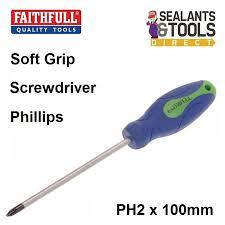screwdriver: (4, 79, 216, 217)
